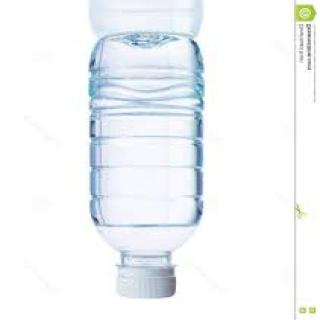Anorganik: (82, 27, 212, 305)
